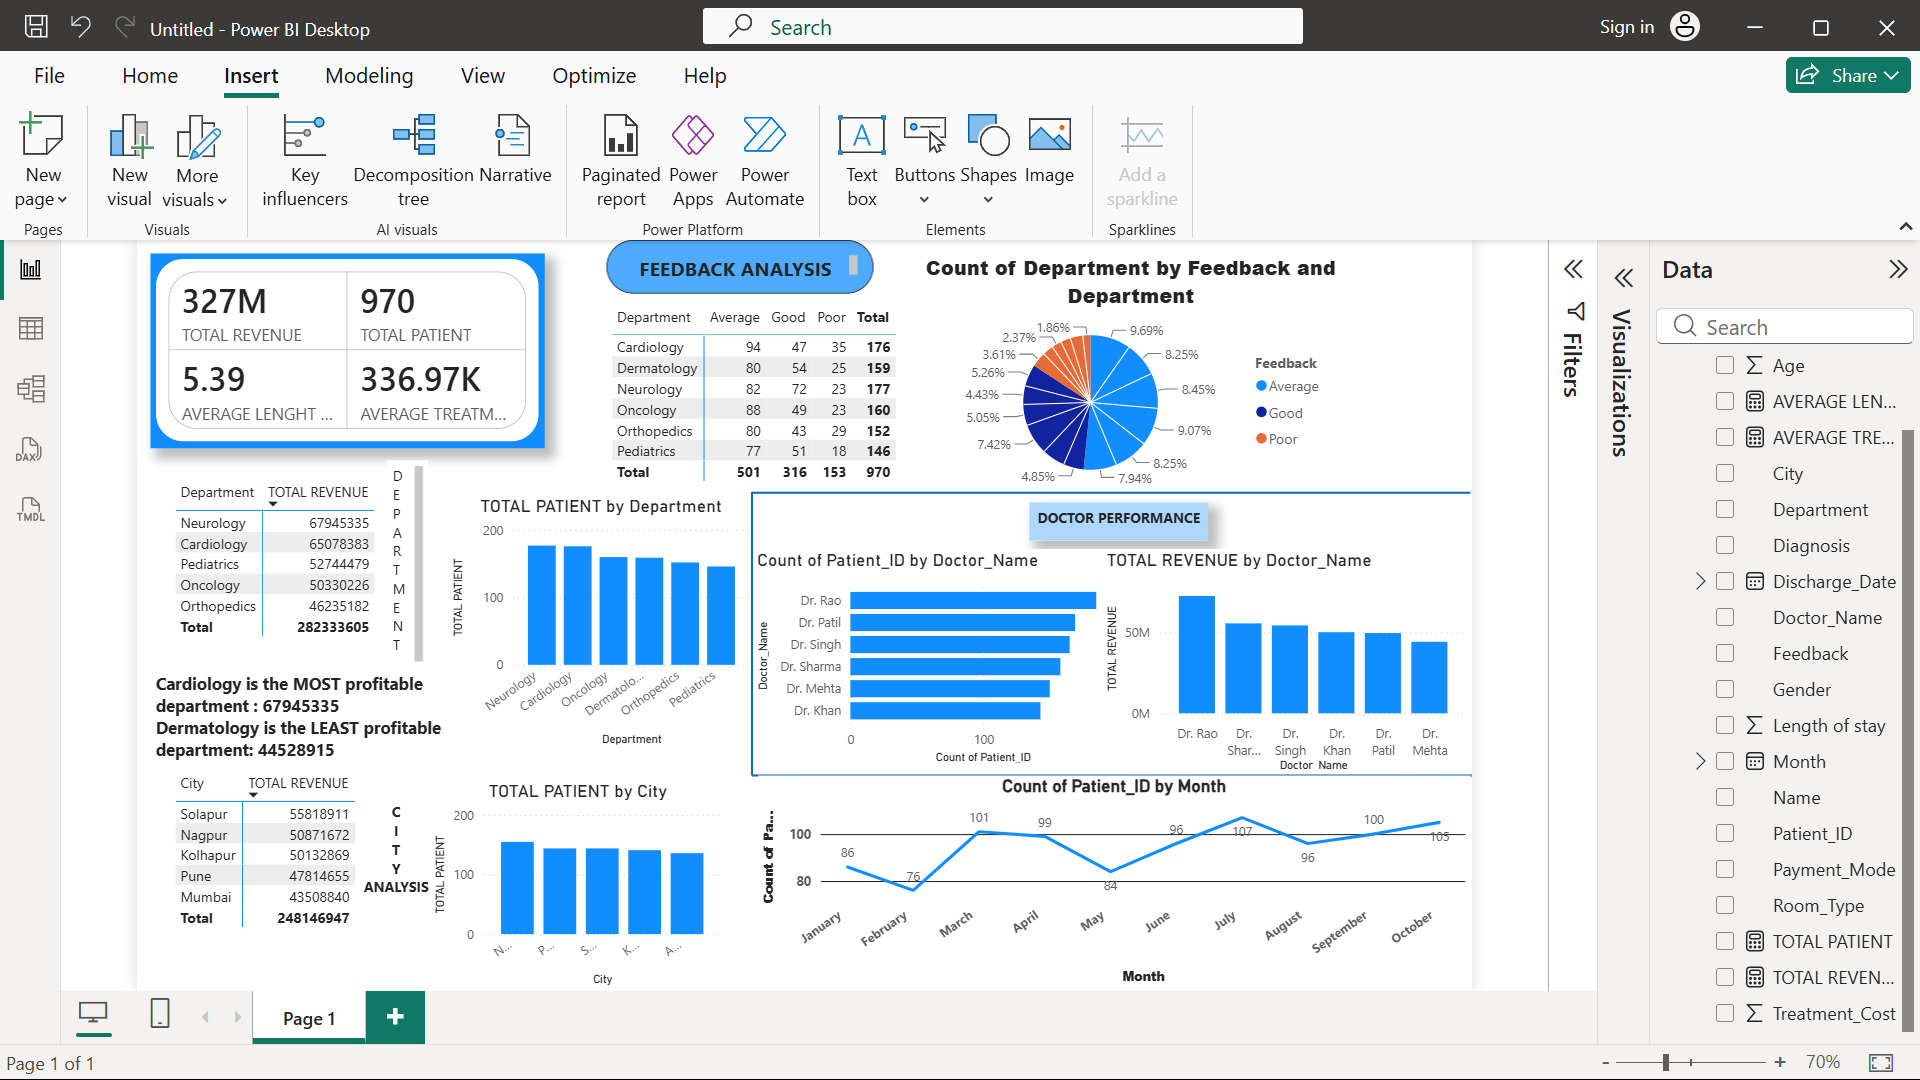

The page's visual inventory and layout, read from the dashboard file:
{"tool":"powerbi","page":{"name":"Page 1","canvas":[1280,720],"ordinal":0},"visuals":[{"type":"cardVisual","fields":{"Data":["Hospital_Cleaned_data (1).TOTAL REVENUE","Hospital_Cleaned_data (1).TOTAL PATIENT","Hospital_Cleaned_data (1).AVERAGE LENGHT OF STAY","Hospital_Cleaned_data (1).AVERAGE TREATMENT COST"]},"box":[12.9,12.9,378.2,187],"z":0},{"type":"pivotTable","fields":{"Rows":["Hospital_Cleaned_data (1).Department"],"Values":["Hospital_Cleaned_data (1).TOTAL REVENUE"]},"box":[31.8,225.6,209,166.6],"z":2},{"type":"textbox","box":[12.9,408.4,284.7,100.7],"z":3},{"type":"columnChart","fields":{"Category":["Hospital_Cleaned_data (1).Department"],"Y":["Hospital_Cleaned_data (1).TOTAL PATIENT"]},"box":[297.7,244.5,294.8,244.5],"z":4},{"type":"textbox","box":[855.5,251.4,171.1,36.3],"z":5},{"type":"barChart","fields":{"Category":["Hospital_Cleaned_data (1).Doctor_Name"],"Y":["CountNonNull(Hospital_Cleaned_data (1).Patient_ID)"]},"box":[589.6,296.3,363.8,210],"z":6},{"type":"columnChart","fields":{"Category":["Hospital_Cleaned_data (1).Doctor_Name"],"Y":["Hospital_Cleaned_data (1).TOTAL REVENUE"]},"box":[924.7,296.3,355.2,217.2],"z":7},{"type":"pivotTable","fields":{"Rows":["Hospital_Cleaned_data (1).Department"],"Columns":["Hospital_Cleaned_data (1).Feedback"],"Values":["CountNonNull(Hospital_Cleaned_data (1).Feedback)"]},"box":[450.1,57.5,289.1,184.1],"z":8},{"type":"pieChart","fields":{"Category":["Hospital_Cleaned_data (1).Feedback"],"Series":["Hospital_Cleaned_data (1).Department"],"Y":["CountNonNull(Hospital_Cleaned_data (1).Department)"]},"box":[751,13.6,404.3,231.7],"z":9},{"type":"pivotTable","fields":{"Rows":["Hospital_Cleaned_data (1).City"],"Values":["Hospital_Cleaned_data (1).TOTAL REVENUE"]},"box":[31.6,504.8,195.6,165.4],"z":10},{"type":"textbox","box":[212,533,74.2,109],"z":11},{"type":"textbox","box":[449.7,0,255.9,51.5],"z":12},{"type":"columnChart","fields":{"Category":["Hospital_Cleaned_data (1).City"],"Y":["Hospital_Cleaned_data (1).TOTAL PATIENT"]},"box":[280.1,517.9,284.7,201.4],"z":13},{"type":"shape","box":[589.6,481.8,690.3,63.3],"z":15},{"type":"shape","box":[546.5,241.6,86.3,271.8],"z":16},{"type":"shape","box":[589.6,194.1,688.9,96.4],"z":17},{"type":"textbox","box":[240.2,211.4,38.8,202.8],"z":18},{"type":"lineChart","fields":{"Category":["Hospital_Cleaned_data (1).Month.Variation.Date Hierarchy.Month"],"Y":["Count(Hospital_Cleaned_data (1).Patient_ID)"]},"box":[595.4,513.4,683.1,205.7],"z":19}]}

Visuals, with their boxes on the page's 1280x720 design canvas (x1, y1, x2, y2). These are canvas units, not pixel positions in the 1920x1080 screenshot, which may show the page scaled, cropped or inside an application window:
cardVisual - Hospital_Cleaned_data (1).TOTAL REVENUE x Hospital_Cleaned_data (1).TOTAL PATIENT: [13,13,391,200]
pivotTable - Hospital_Cleaned_data (1).Department x Hospital_Cleaned_data (1).TOTAL REVENUE: [32,226,241,392]
textbox: [13,408,298,509]
columnChart - Hospital_Cleaned_data (1).Department x Hospital_Cleaned_data (1).TOTAL PATIENT: [298,244,592,489]
textbox: [856,251,1027,288]
barChart - Hospital_Cleaned_data (1).Doctor_Name x CountNonNull(Hospital_Cleaned_data (1).Patient_ID): [590,296,953,506]
columnChart - Hospital_Cleaned_data (1).Doctor_Name x Hospital_Cleaned_data (1).TOTAL REVENUE: [925,296,1280,514]
pivotTable - Hospital_Cleaned_data (1).Department x Hospital_Cleaned_data (1).Feedback: [450,58,739,242]
pieChart - Hospital_Cleaned_data (1).Feedback x Hospital_Cleaned_data (1).Department: [751,14,1155,245]
pivotTable - Hospital_Cleaned_data (1).City x Hospital_Cleaned_data (1).TOTAL REVENUE: [32,505,227,670]
textbox: [212,533,286,642]
textbox: [450,0,706,52]
columnChart - Hospital_Cleaned_data (1).City x Hospital_Cleaned_data (1).TOTAL PATIENT: [280,518,565,719]
shape: [590,482,1280,545]
shape: [546,242,633,513]
shape: [590,194,1278,290]
textbox: [240,211,279,414]
lineChart - Hospital_Cleaned_data (1).Month.Variation.Date Hierarchy.Month x Count(Hospital_Cleaned_data (1).Patient_ID): [595,513,1278,719]
